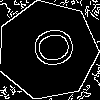O: (23, 25, 77, 72)
